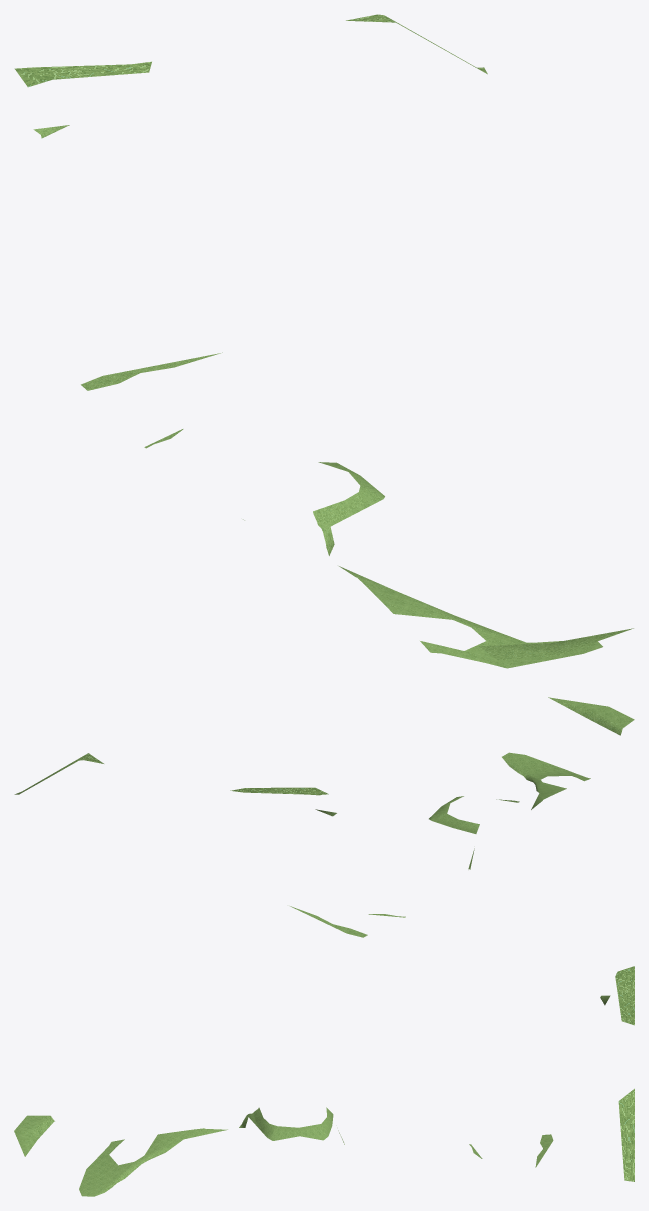
Rendered from kd_stage_13612f_2_1_bounded.glb.
3 views of the same model, one above another, from view 1: azimuth 30°, elevation 25°; view 2: azimuth 150°, elevation 25°; view 3: azimuth 270°, elevation 25° (orthographic). The views are drawn at different scales.
Parts seen in each view (by area): view 1: kd_stage_13612f_2_1_bounded; view 2: kd_stage_13612f_2_1_bounded; view 3: kd_stage_13612f_2_1_bounded.
Part boxes in pixels (<box>): kd_stage_13612f_2_1_bounded: <box>14,14,633,668</box>; kd_stage_13612f_2_1_bounded: <box>14,697,634,937</box>; kd_stage_13612f_2_1_bounded: <box>14,966,634,1196</box>.
Size of the model in its own units: 87.38 by 52.73 by 159.
1 material, 1 textured.
